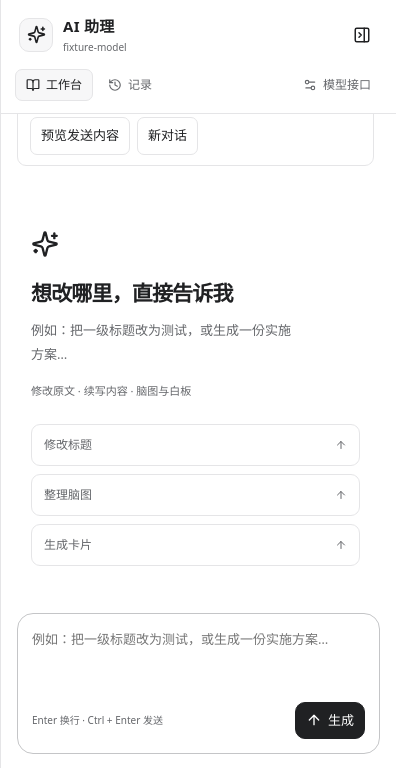
Test: AI workspace › refuses to send an edit while a diagram draft has not reached the document
(page scrolled)
Expected: the text "fixture-model" is shown, [63, 39, 127, 55]
Type "修改脑图分支" into the text box named "向 AI 助理发送消息". click: point(199, 661)
box: [32, 628, 365, 694]
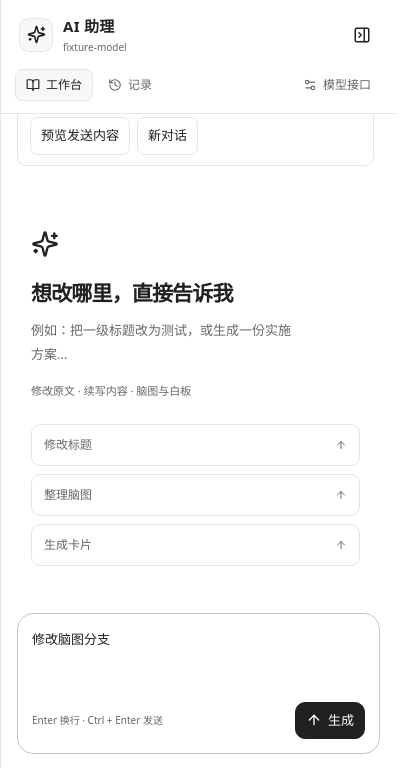
Click the button "生成". click: point(330, 720)
box: [295, 702, 365, 739]
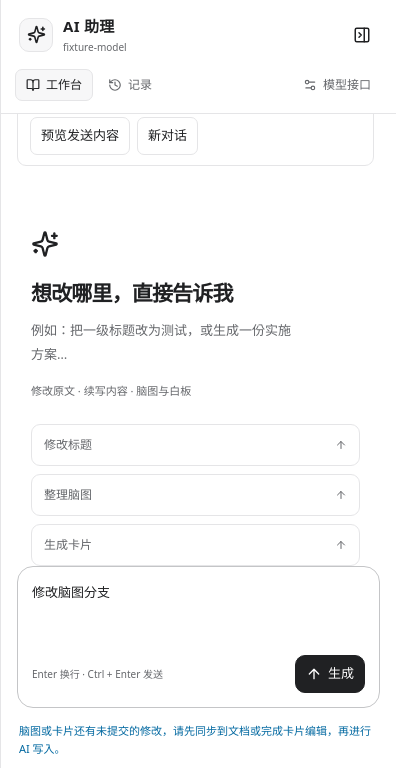
Expected: the text "脑图或卡片还有未提交的修改，请先同步到文档或完成卡片编辑，再进行 AI 写入。" is shown, [1, 722, 396, 767]
